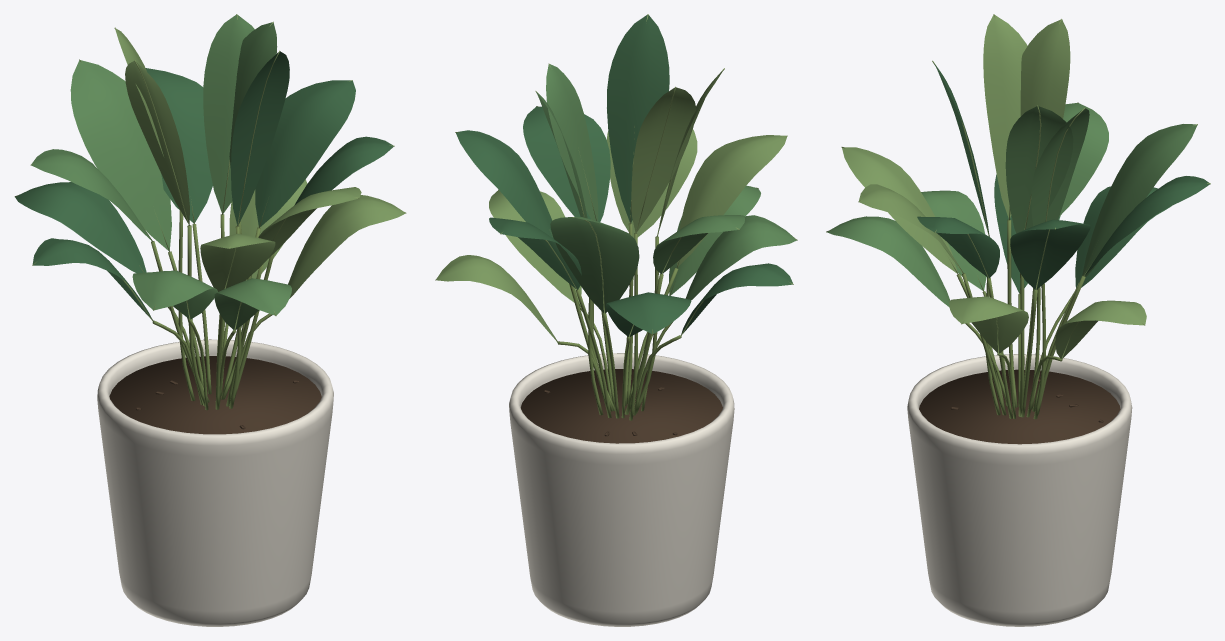
Rendered from furniture-plant.glb.
3 renders of one model, left to right at view 1: azimuth 30°, elevation 25°; view 2: azimuth 150°, elevation 25°; view 3: azimuth 270°, elevation 25°, orthographic. The views are drawn at different scales.
Parts seen in each view (by area): view 1: plant__studio_ceramic_ivory, plant__studio_leaf_dark, plant__studio_leaf_green, plant__studio_leaf_light, plant__studio_soil, plant__studio_plant_stem, plant__studio_leaf_midrib; view 2: plant__studio_ceramic_ivory, plant__studio_leaf_dark, plant__studio_leaf_green, plant__studio_leaf_light, plant__studio_soil, plant__studio_plant_stem, plant__studio_leaf_midrib; view 3: plant__studio_ceramic_ivory, plant__studio_leaf_green, plant__studio_leaf_light, plant__studio_leaf_dark, plant__studio_soil, plant__studio_plant_stem, plant__studio_leaf_midrib.
Part boxes in pixels (bbox=[...]): plant__studio_ceramic_ivory: bbox=[97, 339, 333, 626]; plant__studio_leaf_dark: bbox=[15, 51, 393, 319]; plant__studio_leaf_green: bbox=[31, 14, 291, 330]; plant__studio_leaf_light: bbox=[115, 29, 405, 298]; plant__studio_soil: bbox=[109, 356, 321, 434]; plant__studio_plant_stem: bbox=[151, 210, 274, 410]; plant__studio_leaf_midrib: bbox=[14, 14, 406, 331]; plant__studio_ceramic_ivory: bbox=[509, 353, 734, 626]; plant__studio_leaf_dark: bbox=[456, 14, 792, 336]; plant__studio_leaf_green: bbox=[536, 64, 796, 313]; plant__studio_leaf_light: bbox=[436, 69, 787, 341]; plant__studio_soil: bbox=[520, 369, 722, 443]; plant__studio_plant_stem: bbox=[558, 223, 681, 420]; plant__studio_leaf_midrib: bbox=[435, 14, 797, 342]; plant__studio_ceramic_ivory: bbox=[907, 354, 1132, 626]; plant__studio_leaf_green: bbox=[827, 103, 1197, 307]; plant__studio_leaf_light: bbox=[842, 15, 1146, 359]; plant__studio_leaf_dark: bbox=[917, 62, 1209, 292]; plant__studio_soil: bbox=[919, 369, 1120, 444]; plant__studio_plant_stem: bbox=[956, 219, 1085, 419]; plant__studio_leaf_midrib: bbox=[826, 14, 1210, 359].
Size of the model in its own units: 1.13 by 1.8 by 1.16.
